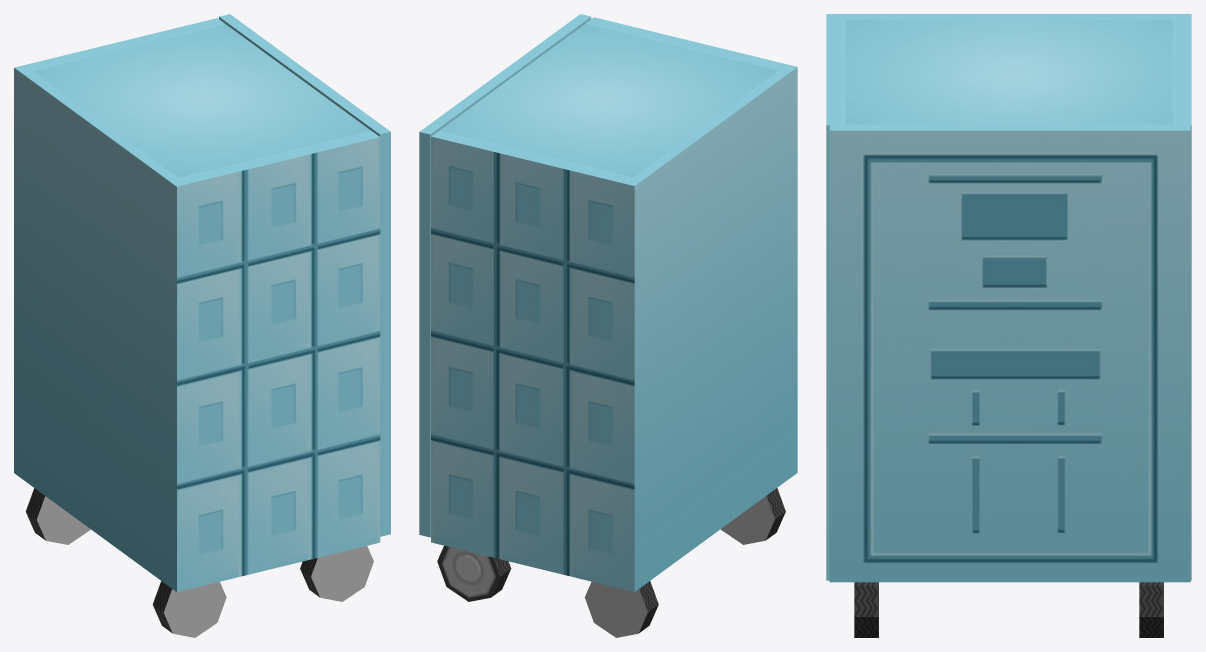
Rendered from basket3.fbx.
3 renders of one model, left to right at view 1: azimuth 30°, elevation 25°; view 2: azimuth 150°, elevation 25°; view 3: azimuth 270°, elevation 25°, orthographic. The views are drawn at different scales.
Visible parts, largest first — view 1: basket4; view 2: basket4; view 3: basket4.
Boxes of the visible parts, bbox=[...] form: basket4: bbox=[14, 14, 390, 637]; basket4: bbox=[419, 14, 797, 637]; basket4: bbox=[826, 14, 1191, 637].
Bounding box in the file's own units: 2.92 × 6.05 × 3.8.
